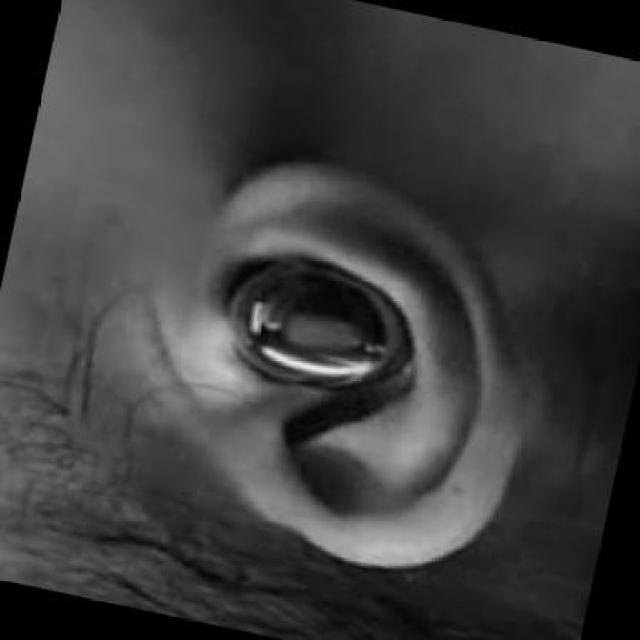earphone: (227, 254, 437, 425)
